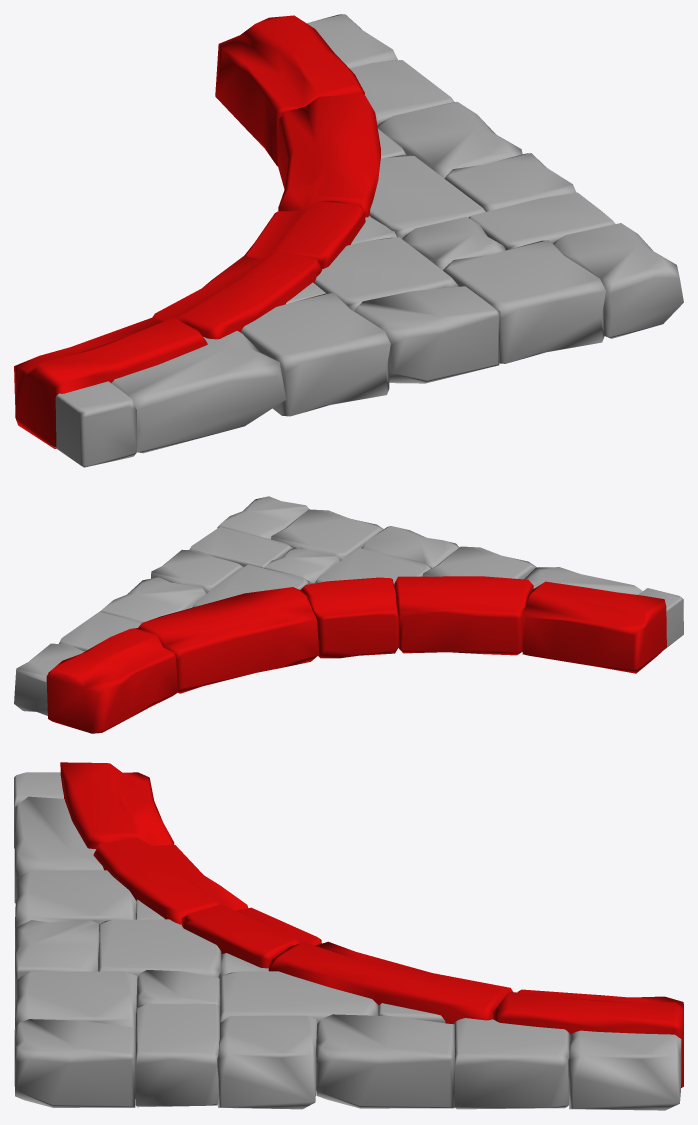
File: ARCH_centreStoneFloorHole_DF_GEO.fbx
3 renders of one model, top to bottom at view 1: azimuth 30°, elevation 25°; view 2: azimuth 150°, elevation 25°; view 3: azimuth 270°, elevation 25°, orthographic. The views are drawn at different scales.
Parts seen in each view (by area): view 1: curveBlock5_low; view 2: curveBlock5_low; view 3: curveBlock5_low.
Boxes of the visible parts, left/top/right/bottom form: curveBlock5_low: left=14, top=14, right=683, bottom=467; curveBlock5_low: left=14, top=496, right=683, bottom=733; curveBlock5_low: left=14, top=762, right=683, bottom=1110.
Size of the model in its own units: 503 by 59.03 by 500.
